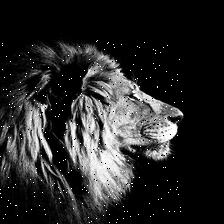Lion: (0, 40, 183, 224)
